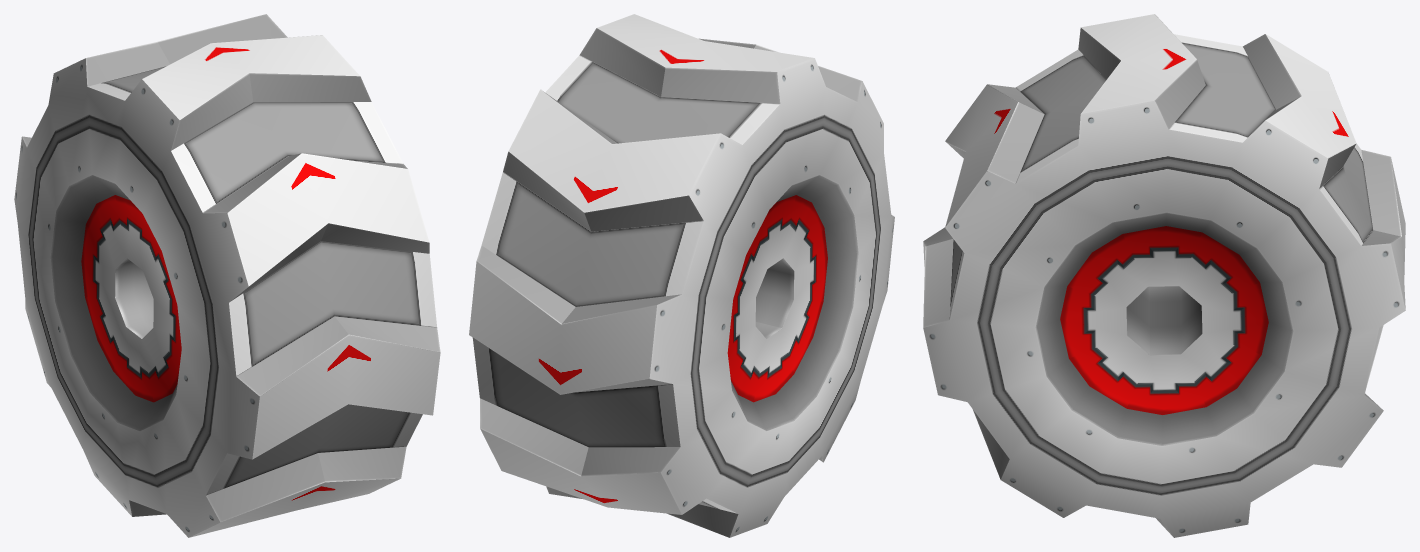
Rendered from item_wheel.FBX.
The picture shows the model from 3 angles, left to right: view 1: azimuth 30°, elevation 25°; view 2: azimuth 150°, elevation 25°; view 3: azimuth 270°, elevation 25°; orthographic projection.
Parts seen in each view (by area): view 1: wheel; view 2: wheel; view 3: wheel.
Part boxes in pixels (bbox=[...]): wheel: bbox=[14, 14, 440, 537]; wheel: bbox=[469, 14, 894, 537]; wheel: bbox=[923, 14, 1405, 537].
Bounding box in the file's own units: 0.2269 × 0.4335 × 0.4335.
